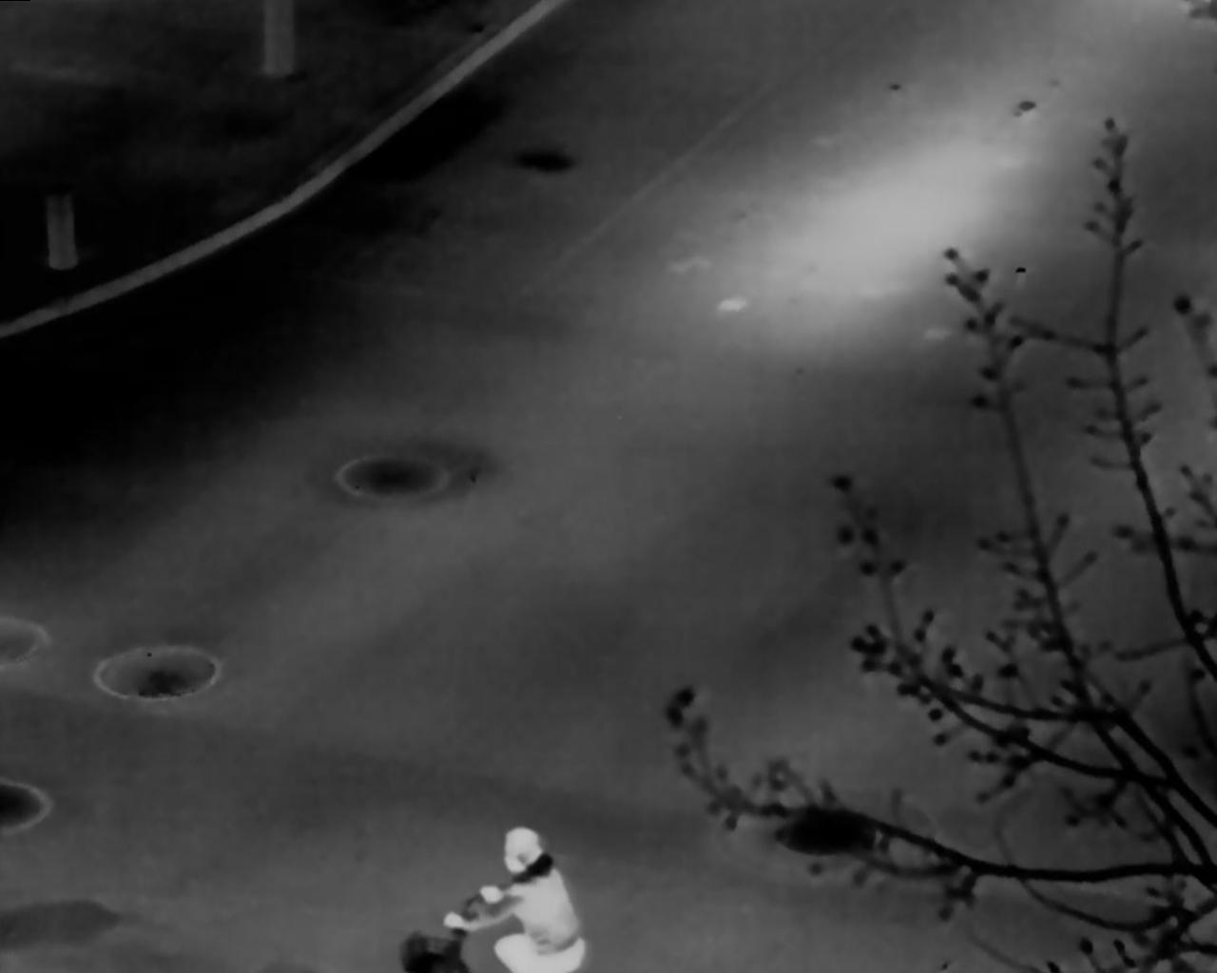person: (442, 826, 586, 973)
